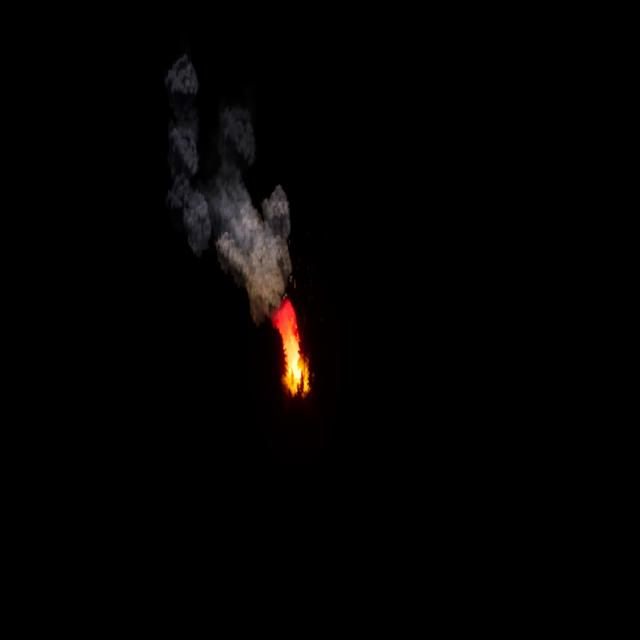fire: (272, 301, 310, 397)
smoke: (163, 49, 295, 315)
